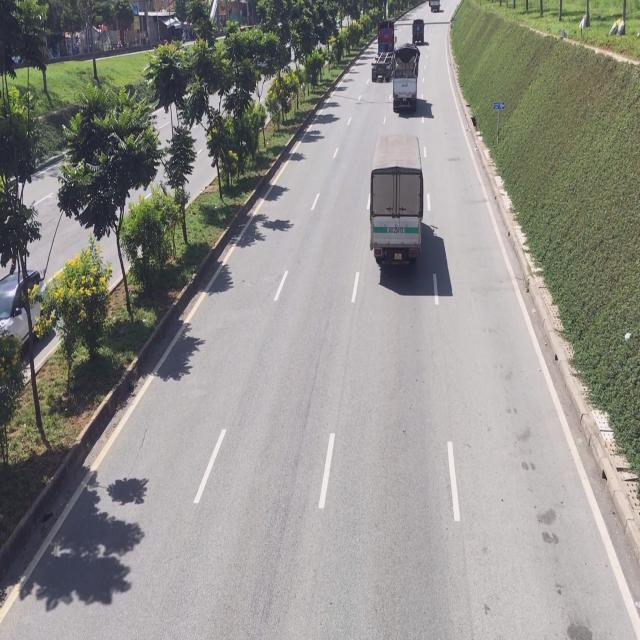truck: (369, 138, 428, 272), (393, 41, 419, 114), (373, 18, 394, 82), (411, 17, 425, 45)
